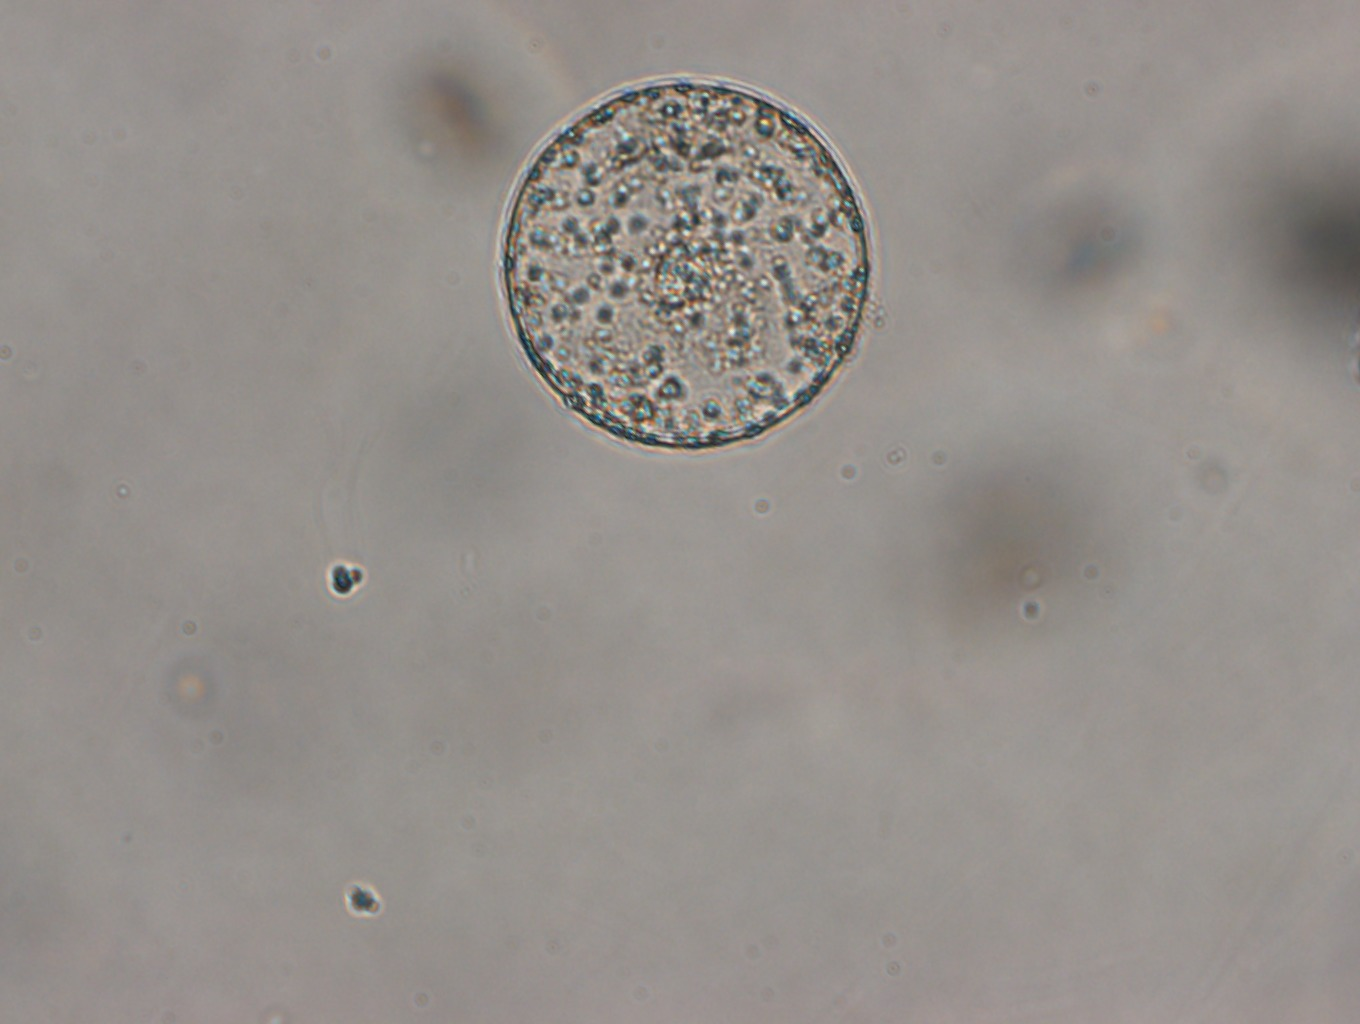coscinodiscus: (495, 76, 873, 455)
